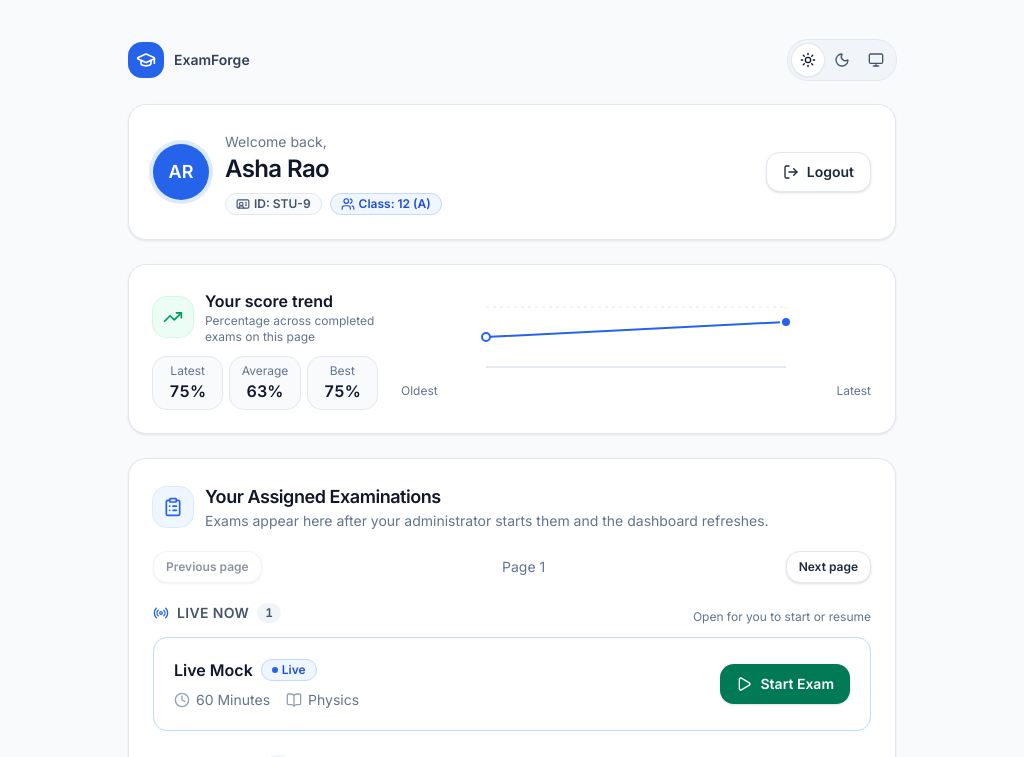
Test: StudentDashboard bounded page reads › recovers from RPC errors through retry without losing the current page
The image size is (1024, 757).
Expected: the element "Live now" is shown, [153,603,871,731]
Click the button "Next page" at (828,567), box [786,551,871,583]
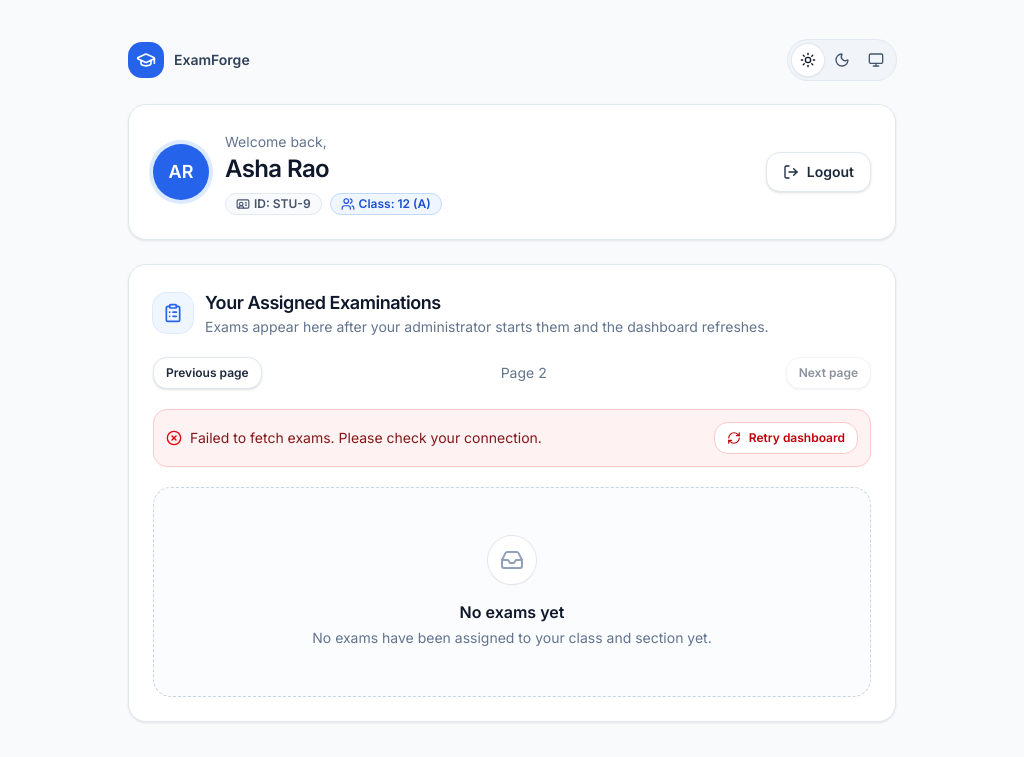
Expected: the message "Failed to fetch exams. Please check your connection. Retry dashboard" is shown, [153,409,871,467]
Click the button "Retry dashboard" at (786,438), box [714,422,858,454]
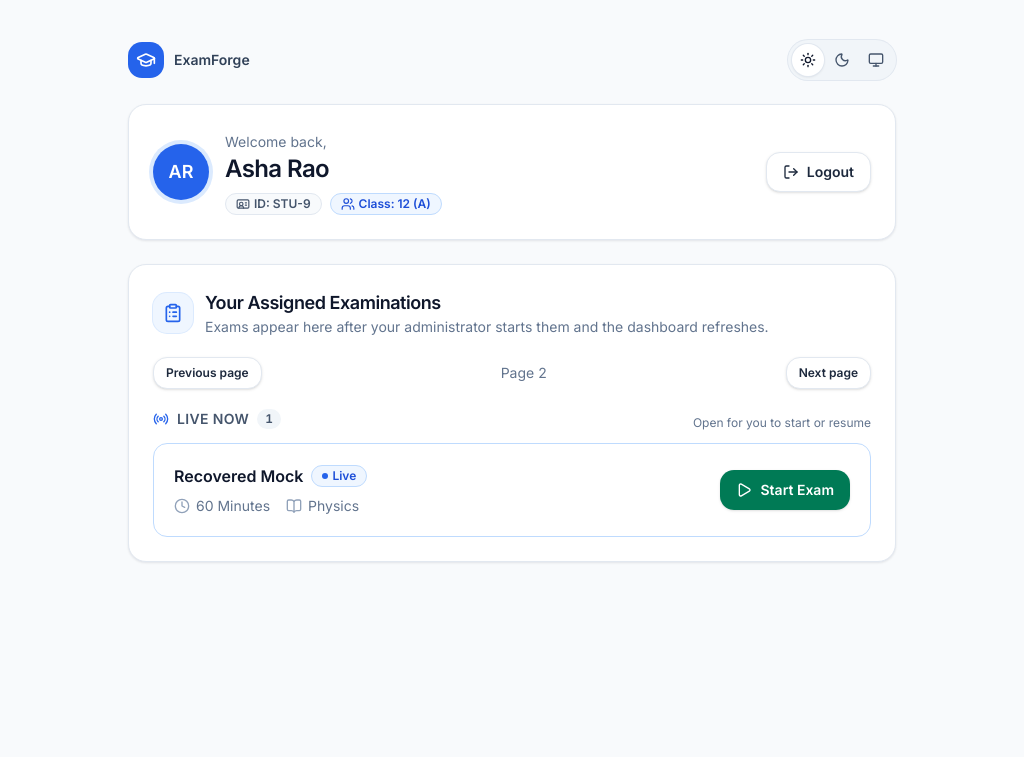
Expected: the heading "Recovered Mock" is shown, [174,464,303,488]
Expected: the message "Failed to fetch exams. Please check your connection. Retry dashboard" is gone
